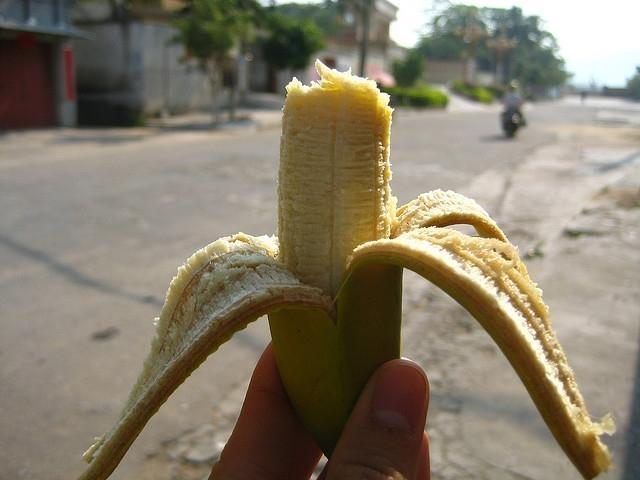motorcycle: (502, 109, 522, 140)
